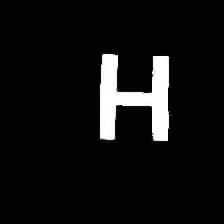LTR_H: (94, 42, 172, 148)
